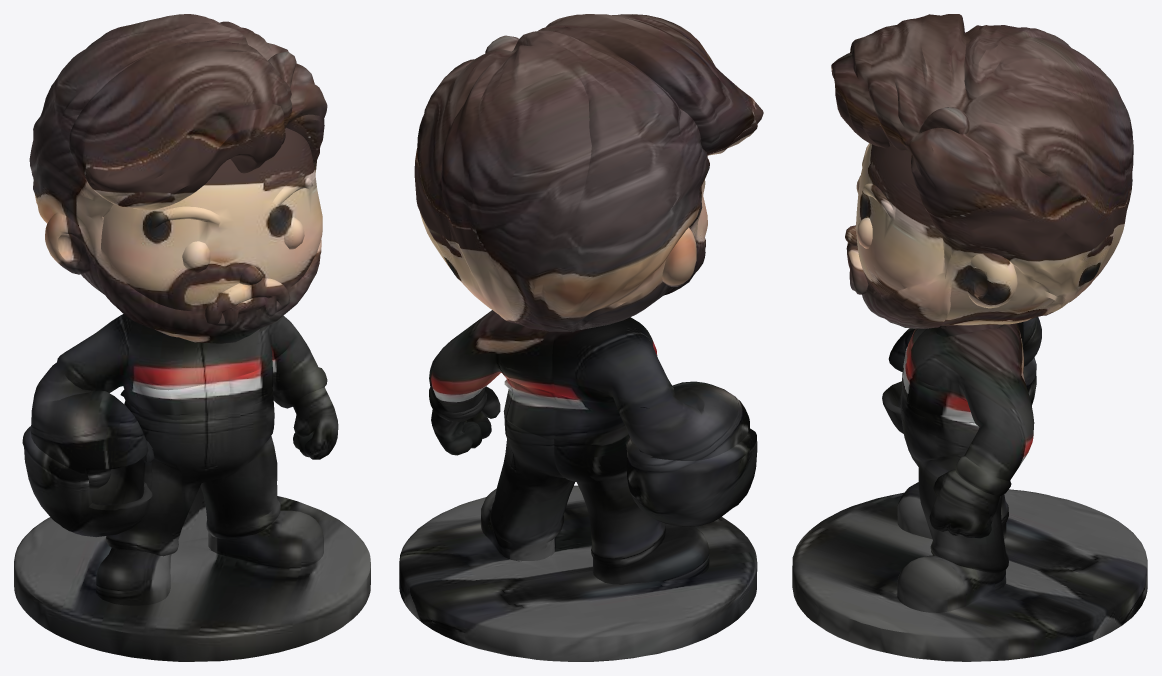
The model's file is figure.glb.
3 views of the same model, side by side, from view 1: azimuth 30°, elevation 25°; view 2: azimuth 150°, elevation 25°; view 3: azimuth 270°, elevation 25° (orthographic).
Visible parts, largest first — view 1: figure-v2; view 2: figure-v2; view 3: figure-v2.
Boxes of the visible parts, x1,y1,x2,y2 form: figure-v2: (14,14,370,661); figure-v2: (399,14,763,661); figure-v2: (792,14,1147,661).
Bounding box in the file's own units: 0.1061 × 0.18 × 0.105.
1 material, 1 textured.
